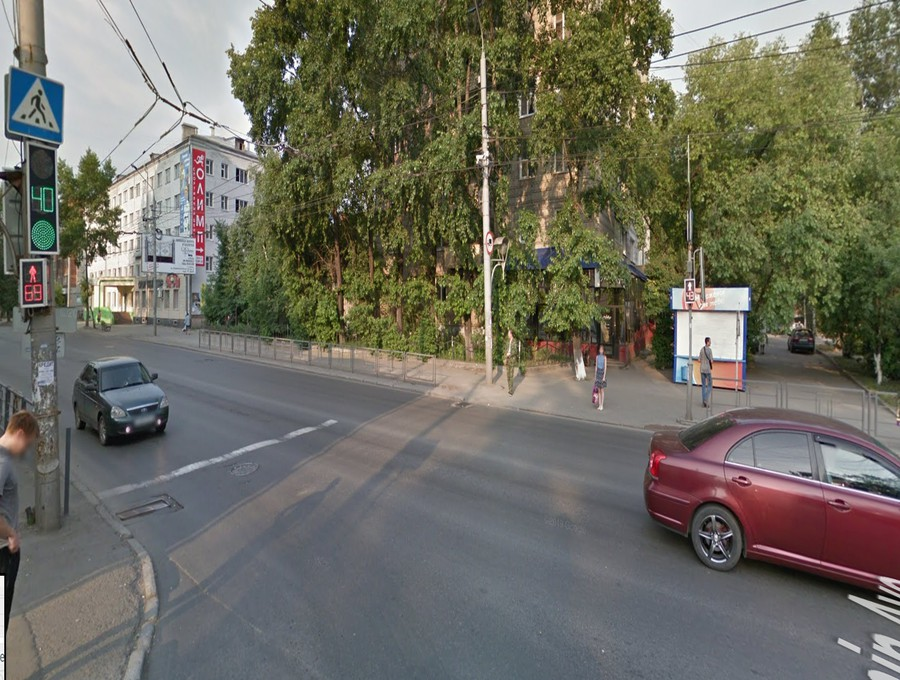Traffic Light-red: (16, 260, 50, 308), (680, 280, 697, 306)
